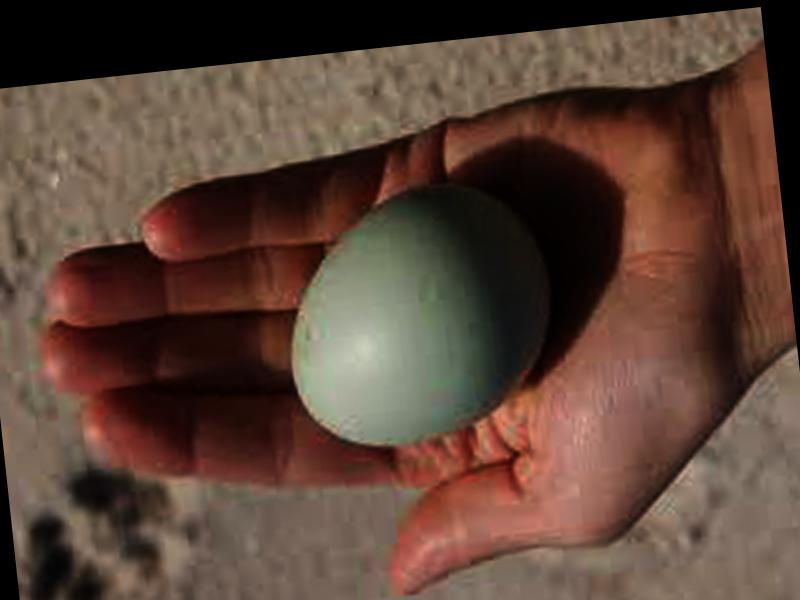Eggs: (271, 176, 560, 454)
